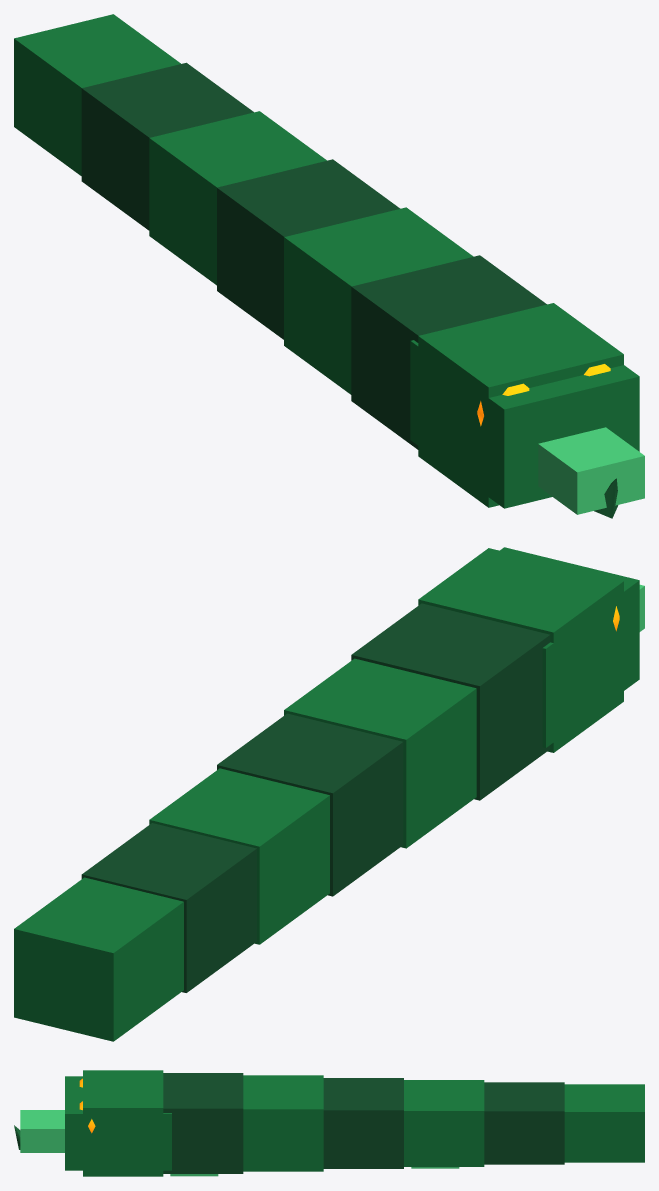
The model's file is MeerimSnakeB.glb.
3 renders of one model, top to bottom at view 1: azimuth 30°, elevation 25°; view 2: azimuth 150°, elevation 25°; view 3: azimuth 270°, elevation 25°, orthographic. The views are drawn at different scales.
Visible parts, largest first — view 1: MeerimSnakeBody; view 2: MeerimSnakeBody; view 3: MeerimSnakeBody.
Boxes of the visible parts, left/top/right/bottom form: MeerimSnakeBody: left=14, top=14, right=644, bottom=518; MeerimSnakeBody: left=14, top=547, right=644, bottom=1041; MeerimSnakeBody: left=14, top=1070, right=644, bottom=1176.
Size of the model in its own units: 0.21 by 0.1848 by 1.41.
